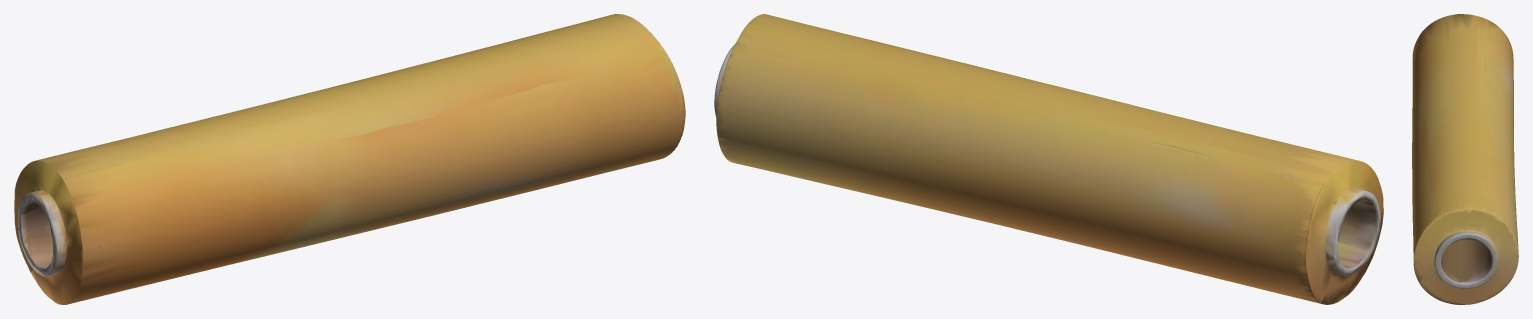
File: react-plastic_wrap-DuOpMTFx.glb
3 renders of one model, left to right at view 1: azimuth 30°, elevation 25°; view 2: azimuth 150°, elevation 25°; view 3: azimuth 270°, elevation 25°, orthographic. The views are drawn at different scales.
Visible parts, largest first — view 1: Meshy_texture_pbr_v128; view 2: Meshy_texture_pbr_v128; view 3: Meshy_texture_pbr_v128.
Boxes of the visible parts, bbox=[...] form: Meshy_texture_pbr_v128: bbox=[14, 14, 685, 304]; Meshy_texture_pbr_v128: bbox=[714, 14, 1383, 304]; Meshy_texture_pbr_v128: bbox=[1412, 14, 1518, 304].
Bounding box in the file's own units: 0.2554 × 0.0534 × 0.0547.
1 material, 1 textured.
